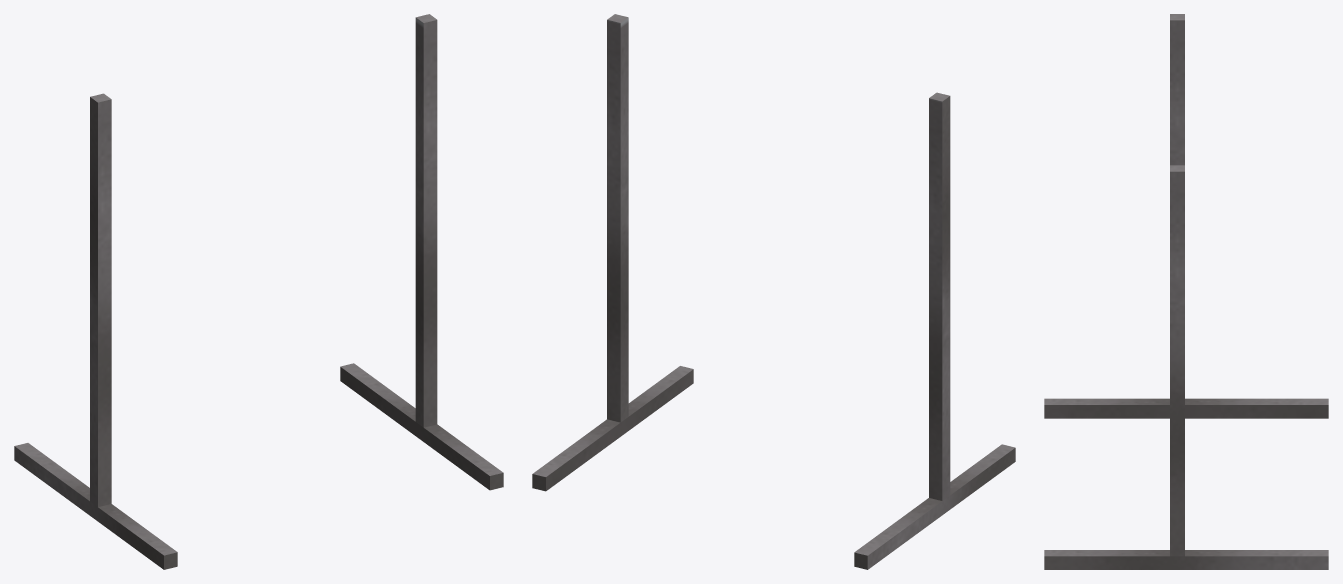
The model's file is Urban_Type3BarrierStilts_Model.fbx.
The picture shows the model from 3 angles, left to right: view 1: azimuth 30°, elevation 25°; view 2: azimuth 150°, elevation 25°; view 3: azimuth 270°, elevation 25°; orthographic projection. The views are drawn at different scales.
Visible parts, largest first — view 1: Urban_Type3BarrierStilts_Mesh; view 2: Urban_Type3BarrierStilts_Mesh; view 3: Urban_Type3BarrierStilts_Mesh.
Boxes of the visible parts, left/top/right/bottom form: Urban_Type3BarrierStilts_Mesh: left=14, top=14, right=503, bottom=569; Urban_Type3BarrierStilts_Mesh: left=532, top=14, right=1015, bottom=569; Urban_Type3BarrierStilts_Mesh: left=1044, top=14, right=1328, bottom=569.
Bounding box in the file's own units: 1.27 × 1.49 × 0.967.
